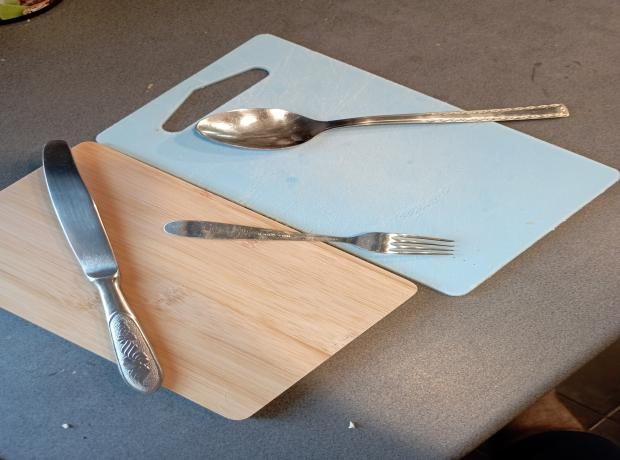metal: (41, 138, 166, 394), (195, 101, 575, 150), (163, 219, 458, 259)
